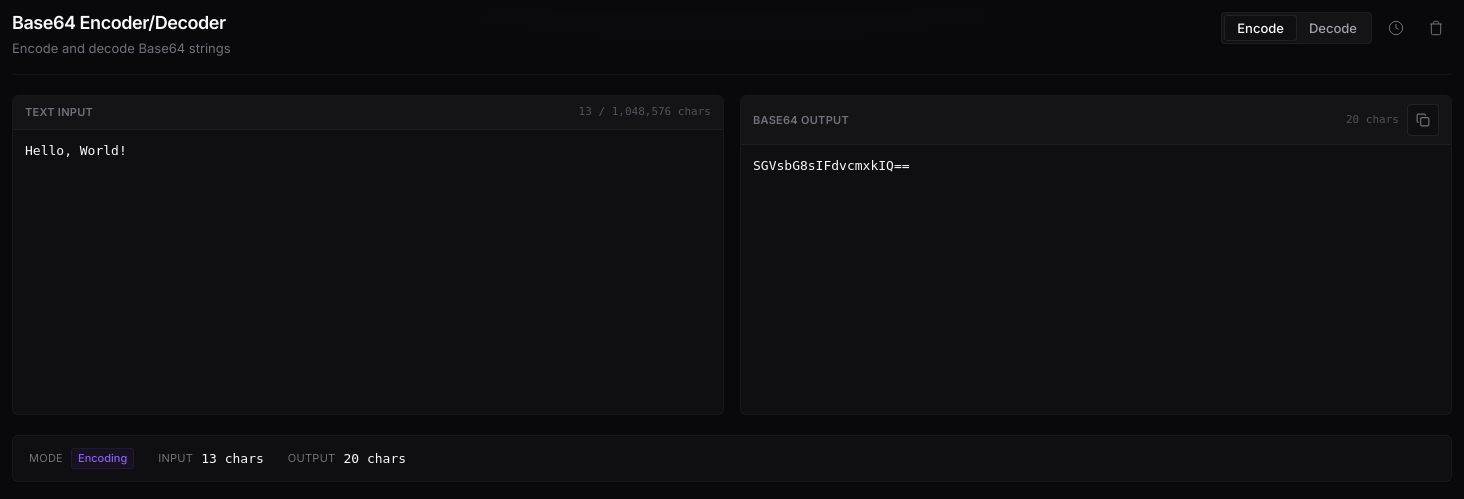
Test case: Base64Tool › should clear all fields when clear button is clicked
Step 1. Replace the text in the text box with placeholder "Enter text to encode..." with "test text" → [368, 272], box [13,130,723,414]
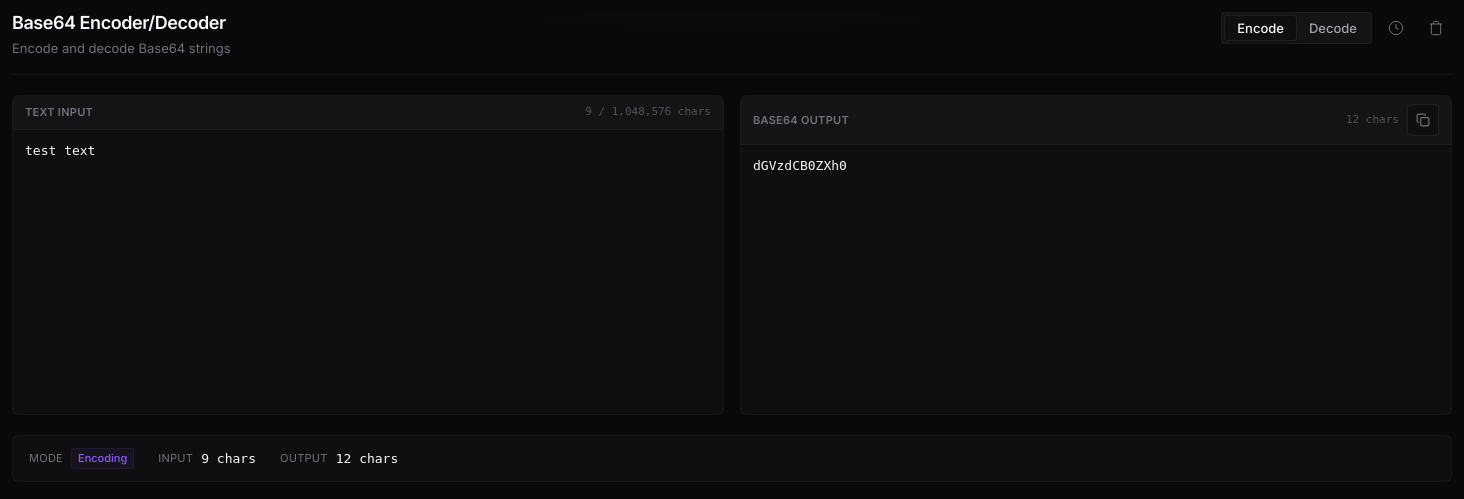
Step 2. Click the button named "clear all fields" → [1436, 28], box [1420,12,1452,44]
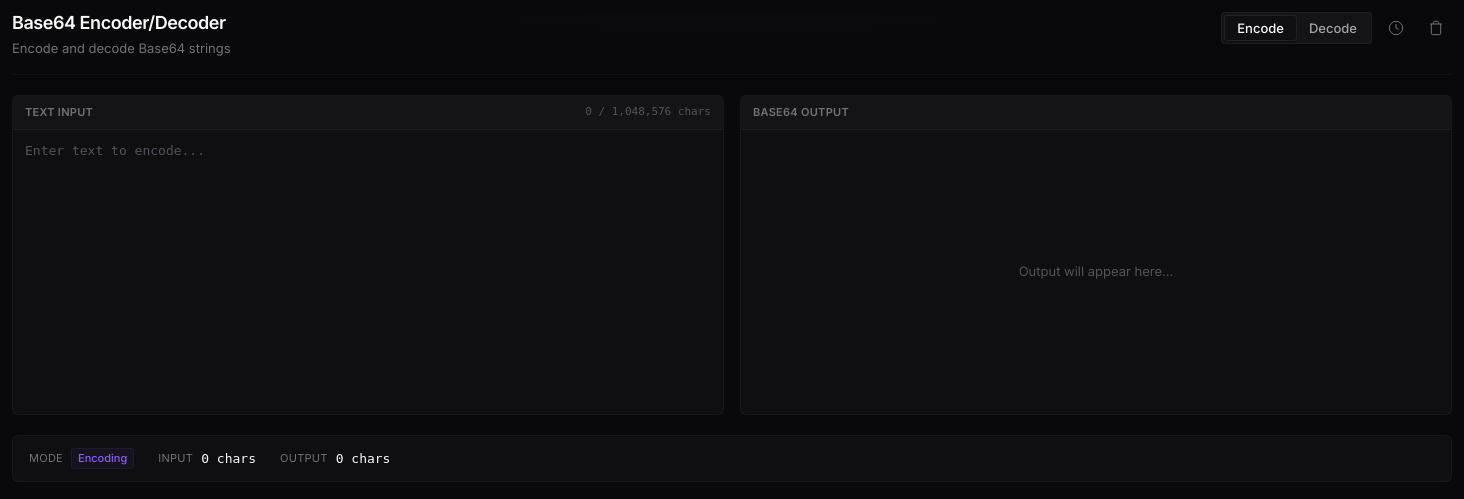
Expected: the text box with placeholder "Enter text to encode..." is empty, [13,130,723,414]
